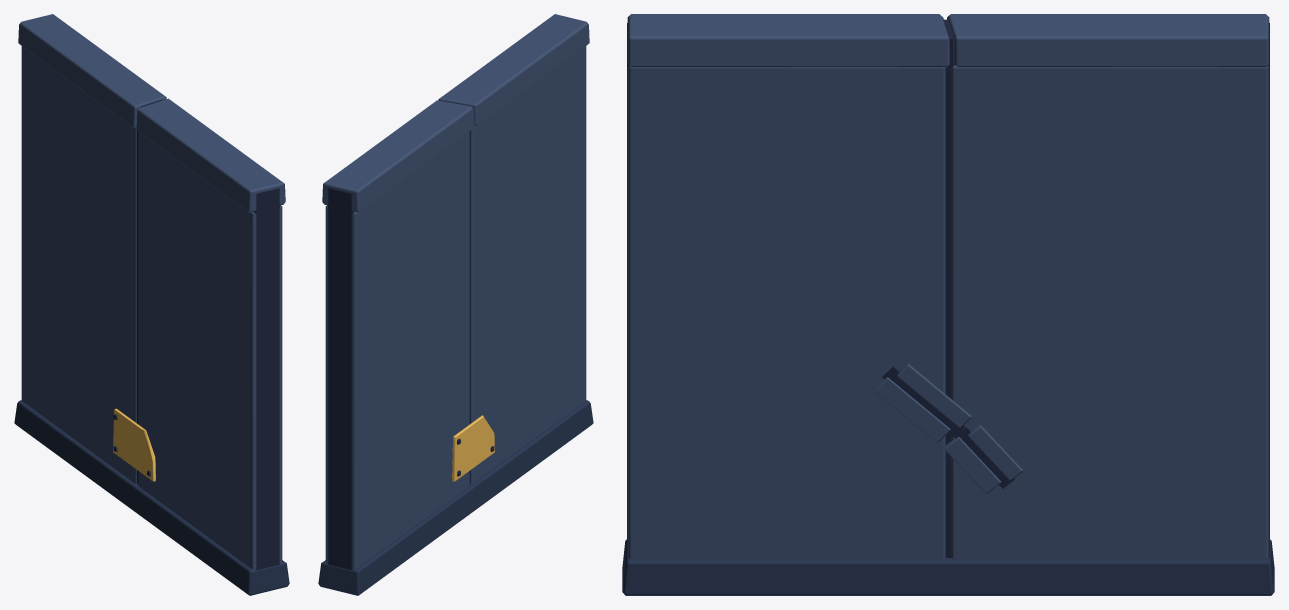
The model's file is wall_slate_34_420_440.glb.
3 views of the same model, side by side, from view 1: azimuth 30°, elevation 25°; view 2: azimuth 150°, elevation 25°; view 3: azimuth 270°, elevation 25° (orthographic). The views are drawn at different scales.
Visible parts, largest first — view 1: wall_slate_34_420_440; view 2: wall_slate_34_420_440; view 3: wall_slate_34_420_440.
Boxes of the visible parts, x1,y1,x2,y2 form: wall_slate_34_420_440: [14, 14, 289, 595]; wall_slate_34_420_440: [318, 14, 593, 595]; wall_slate_34_420_440: [622, 14, 1274, 595].
Bounding box in the file's own units: 0.4582 × 4.2 × 4.44.
